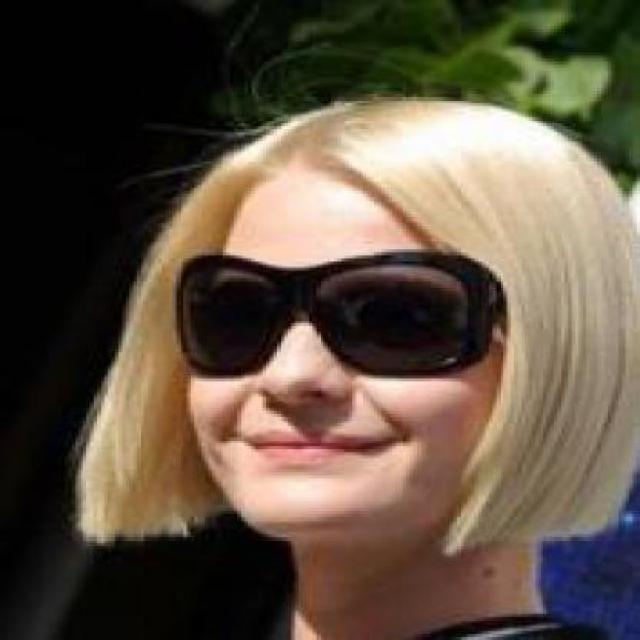closed-mouth: (237, 426, 406, 472)
